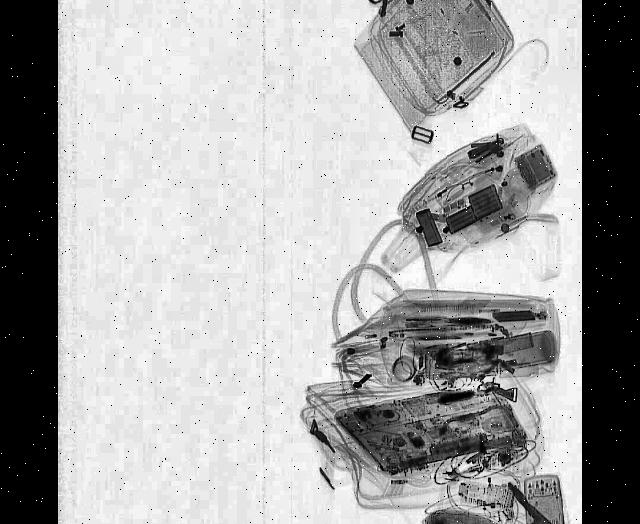Pliers: (476, 472, 567, 524)
